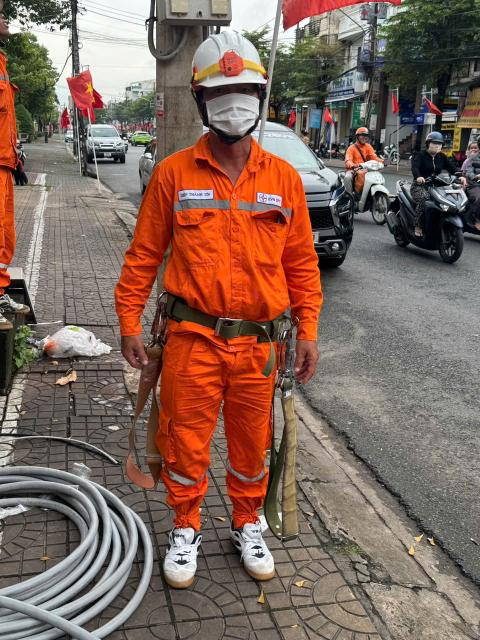harness: (147, 282, 316, 356)
helmet: (183, 25, 289, 96)
shoes: (143, 508, 207, 595), (228, 507, 279, 581)
